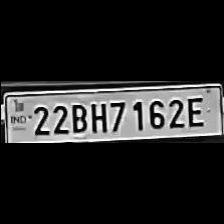1: (126, 98, 144, 132)
2: (27, 102, 49, 136), (48, 101, 68, 135), (166, 96, 184, 130)
6: (144, 97, 164, 129)
7: (107, 98, 125, 132)
B: (68, 100, 86, 134)
E: (185, 96, 205, 128)
H: (86, 99, 108, 133)
